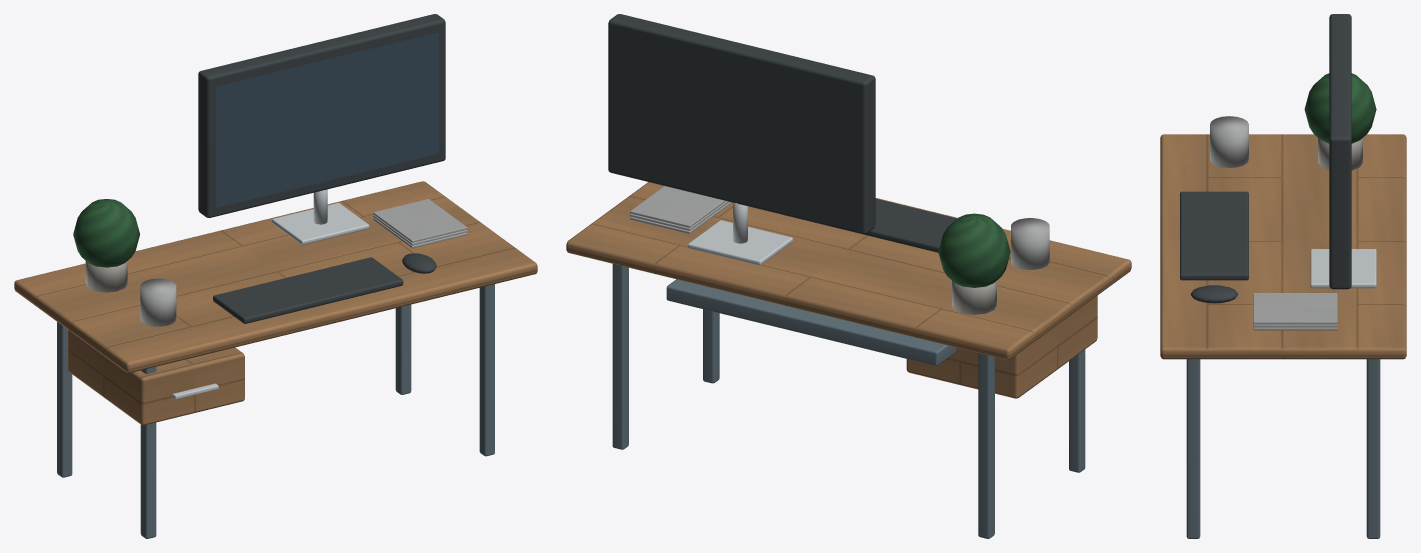
Rendered from desk_local.glb.
3 renders of one model, left to right at view 1: azimuth 30°, elevation 25°; view 2: azimuth 150°, elevation 25°; view 3: azimuth 270°, elevation 25°, orthographic. The views are drawn at different scales.
Visible parts, largest first — view 1: DeskTop, Screen, MonitorCase, DeskDrawer, DeskLeg (×4), Keyboard, TinyPlant, Document, MonitorFoot, DeskCup, TinyPlantPot; view 2: MonitorCase, DeskTop, DeskLeg (×4), CableTray, DeskDrawer, TinyPlant, Keyboard, MonitorFoot, Document, DeskCup, TinyPlantPot; view 3: DeskTop, MonitorCase, Keyboard, DeskLeg (×2), Document (×3), TinyPlant, DeskCup, MonitorFoot, Mouse, TinyPlantPot.
Boxes of the visible parts, x1,y1,x2,y2 form: DeskTop: (14,181,537,372); Screen: (216,32,438,207); MonitorCase: (198,14,445,217); DeskDrawer: (68,330,244,425); DeskLeg (×4): (57,284,494,538); Keyboard: (213,257,403,323); TinyPlant: (73,199,139,267); Document: (373,199,467,242); MonitorFoot: (272,203,369,244); DeskCup: (140,278,176,326); TinyPlantPot: (85,261,127,292); MonitorCase: (608,14,875,234); DeskTop: (566,182,1131,359); DeskLeg (×4): (612,264,1085,538); CableTray: (666,279,956,365); DeskDrawer: (906,295,1097,398); TinyPlant: (938,213,1010,287); Keyboard: (788,198,957,252); MonitorFoot: (688,220,792,265); Document: (630,186,726,227); DeskCup: (1011,218,1049,269); TinyPlantPot: (952,281,996,314); DeskTop: (1160,134,1406,359); MonitorCase: (1329,14,1351,289); Keyboard: (1180,191,1248,280); DeskLeg (×2): (1186,359,1380,538); Document (×3): (1253,293,1337,330); TinyPlant: (1304,73,1376,143); DeskCup: (1210,116,1248,167); MonitorFoot: (1310,249,1376,288); Mouse: (1190,285,1238,303); TinyPlantPot: (1318,138,1362,170).
Size of the model in its own units: 1.7 by 1.51 by 0.82.
9 materials, 4 textured.
